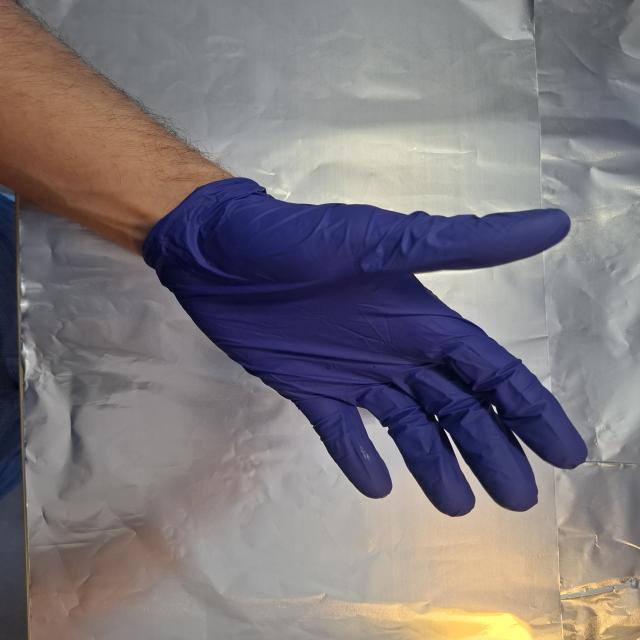glove_on: (147, 181, 593, 519)
